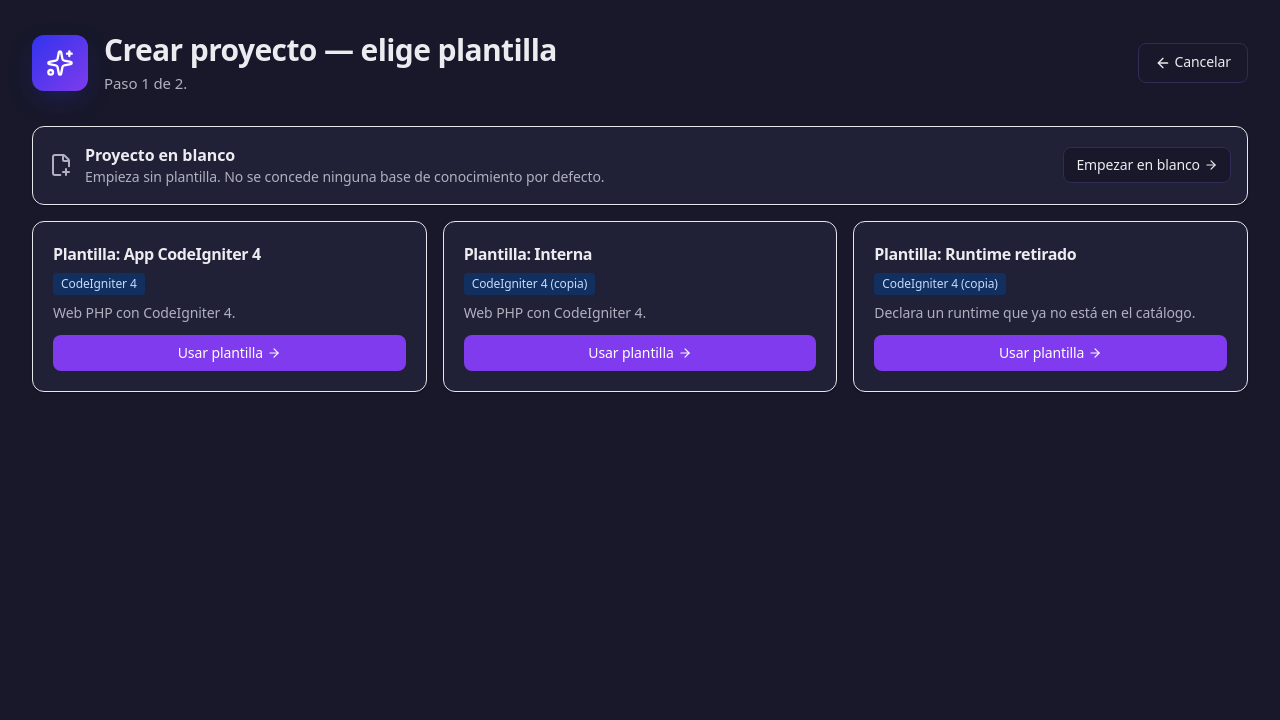
Scenario: H1 — el runtime de la plantilla llega al formulario › una plantilla sin runtime declarado deja el desplegable vacío
Click the button "Usar plantilla" below "Plantilla: Interna" at (640, 353), box [464,335,816,371]
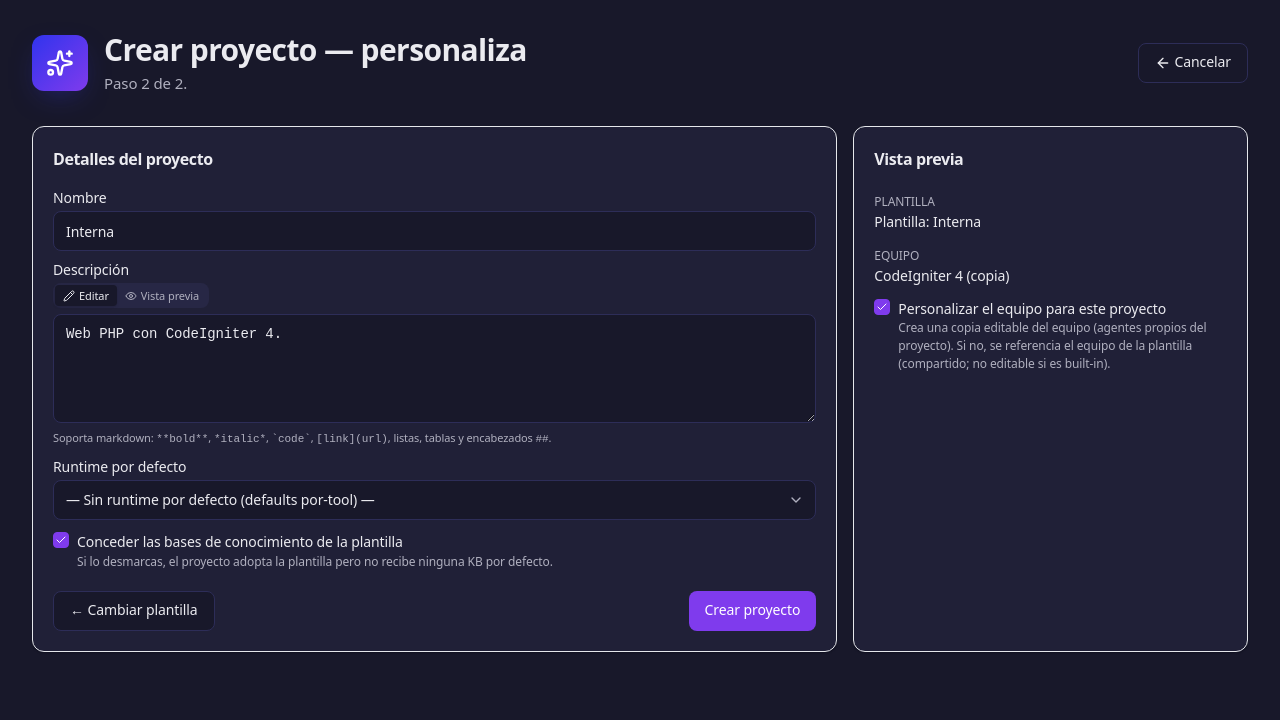
Expected: the text "CodeIgniter 4 (copia)" is shown, [874,266,1009,285]
Result: the element with test id "wizard-step-2" is shown
Result: the dropdown with test id "wizard-runtime-select" shows "— Sin runtime por defecto (defaults por-tool) —" at [53,480,816,520]
